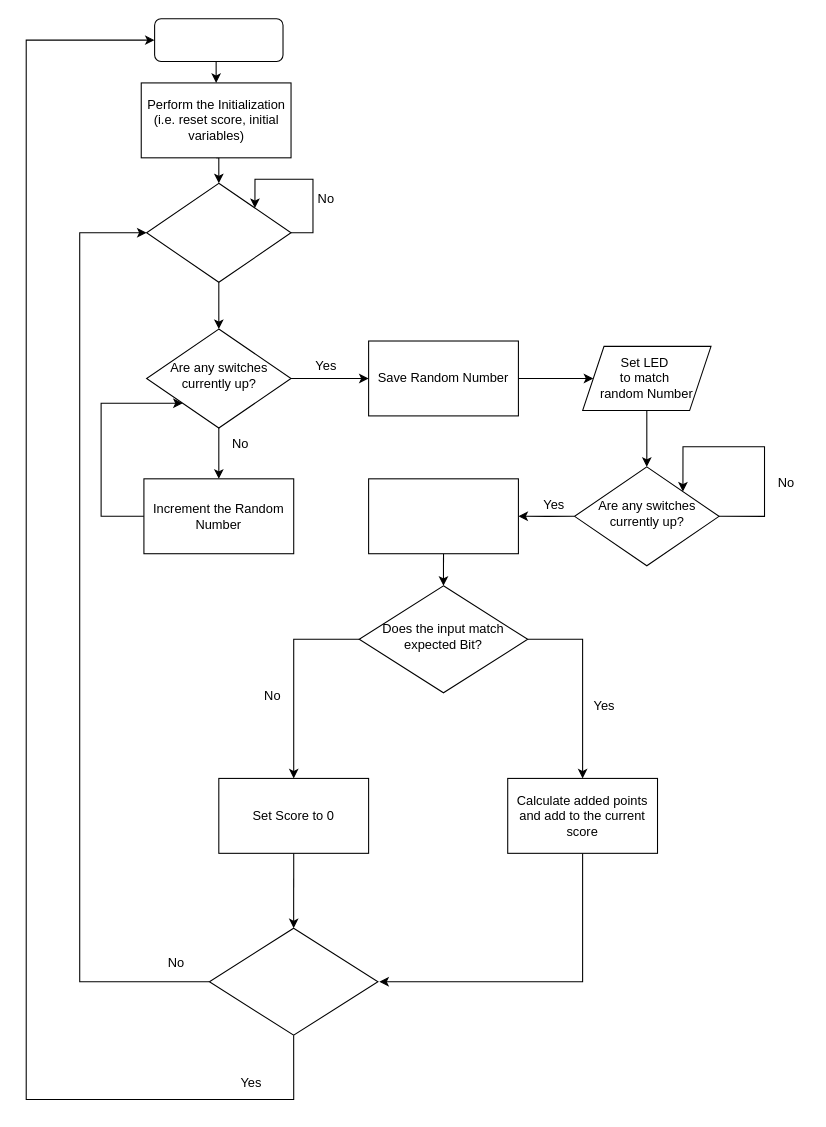
The diagram is 826 pixels wide and 1127 high, and some of its shapes have lost their labels. Each missing label, with the centre of its shape:
"Are all the switches down?" belongs at (x=218, y=232).
"Compare input bit to the lowest active bit" belongs at (x=443, y=516).
"Did the user lose?" belongs at (x=293, y=981).
"Reset" belongs at (x=218, y=40).
